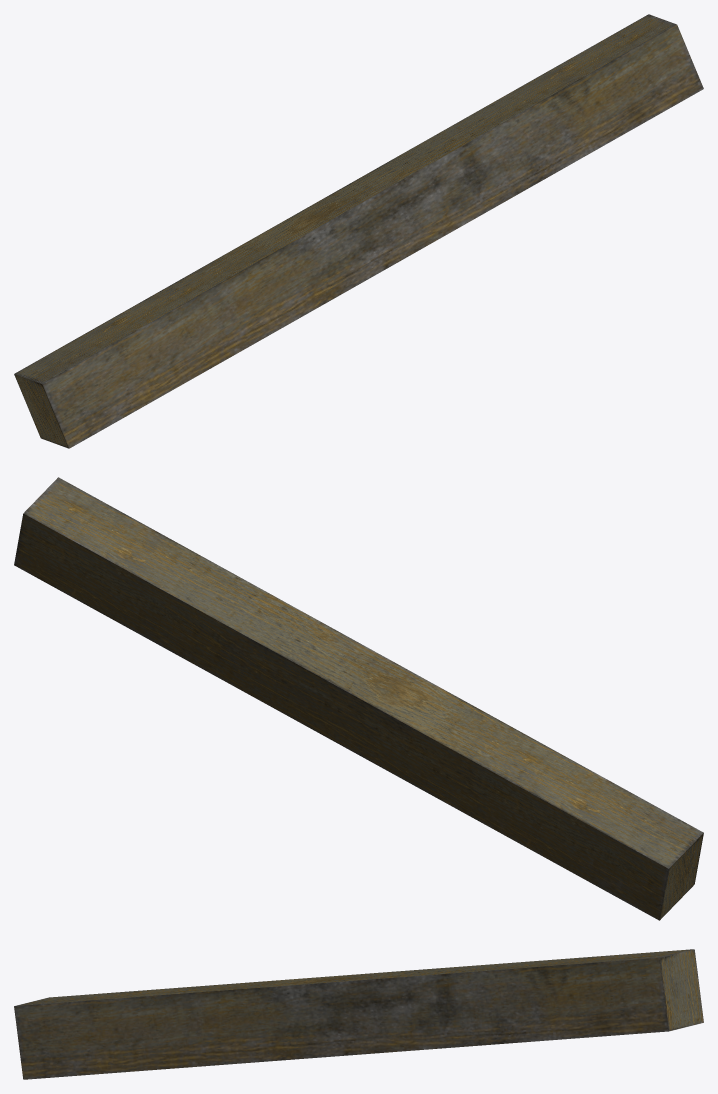
The model's file is BoxWoodA.glb.
3 views of the same model, one above another, from view 1: azimuth 30°, elevation 25°; view 2: azimuth 150°, elevation 25°; view 3: azimuth 330°, elevation 25° (orthographic).
Visible parts, largest first — view 1: BoxWoodA; view 2: BoxWoodA; view 3: BoxWoodA.
Boxes of the visible parts, bbox=[...] form: BoxWoodA: bbox=[14, 14, 703, 448]; BoxWoodA: bbox=[14, 477, 703, 920]; BoxWoodA: bbox=[14, 949, 703, 1079].
Size of the model in its own units: 1.26 by 0.507 by 0.1476.
Materials: 1 (1 with a texture image).
